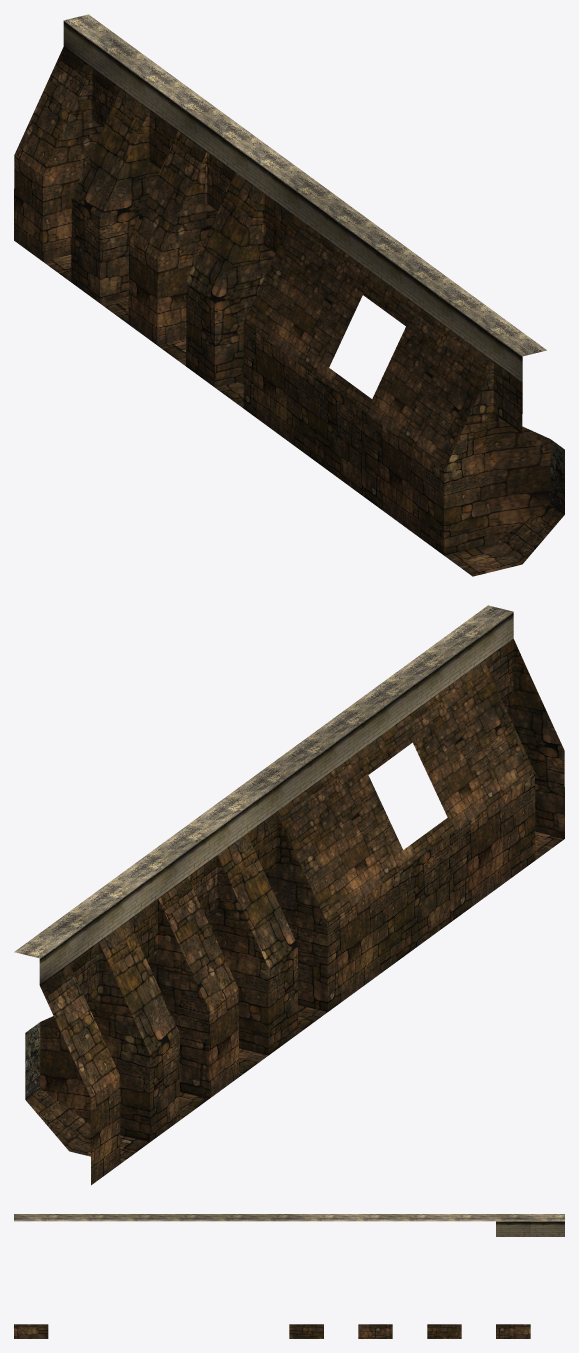
The model's file is M10_Z01_20_Wall.glb.
3 renders of one model, top to bottom at view 1: azimuth 30°, elevation 25°; view 2: azimuth 150°, elevation 25°; view 3: azimuth 270°, elevation 25°, orthographic. The views are drawn at different scales.
Visible parts, largest first — view 1: M10_Z01_20_WALL; view 2: M10_Z01_20_WALL; view 3: M10_Z01_20_WALL.
Part boxes in pixels (x1,y1,x2,y2): M10_Z01_20_WALL: (14, 14, 564, 576); M10_Z01_20_WALL: (14, 605, 564, 1185); M10_Z01_20_WALL: (14, 1214, 564, 1338).
Bounding box in the file's own units: 4.01 × 8 × 32.
4 materials, 4 textured.
